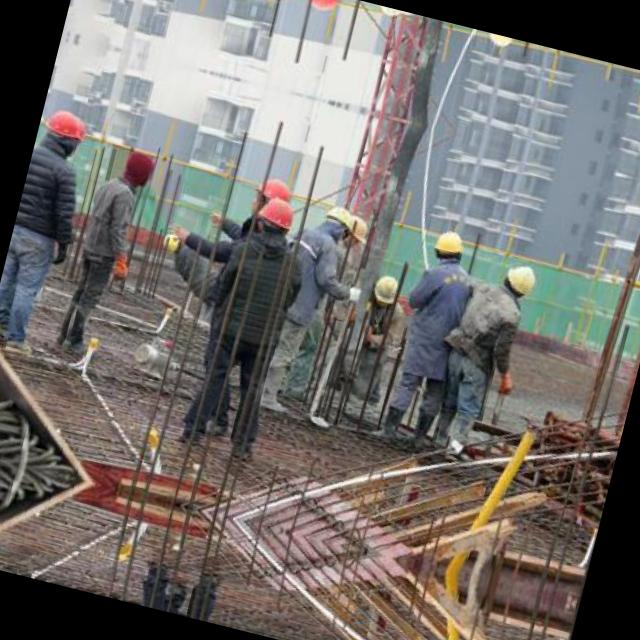helmet: (39, 103, 89, 158), (246, 172, 294, 220), (254, 194, 298, 240), (366, 266, 404, 310), (428, 222, 466, 262), (319, 200, 355, 242), (500, 261, 538, 300), (339, 212, 371, 252), (156, 225, 186, 255), (480, 31, 514, 55), (296, 0, 340, 16), (373, 4, 404, 23)
